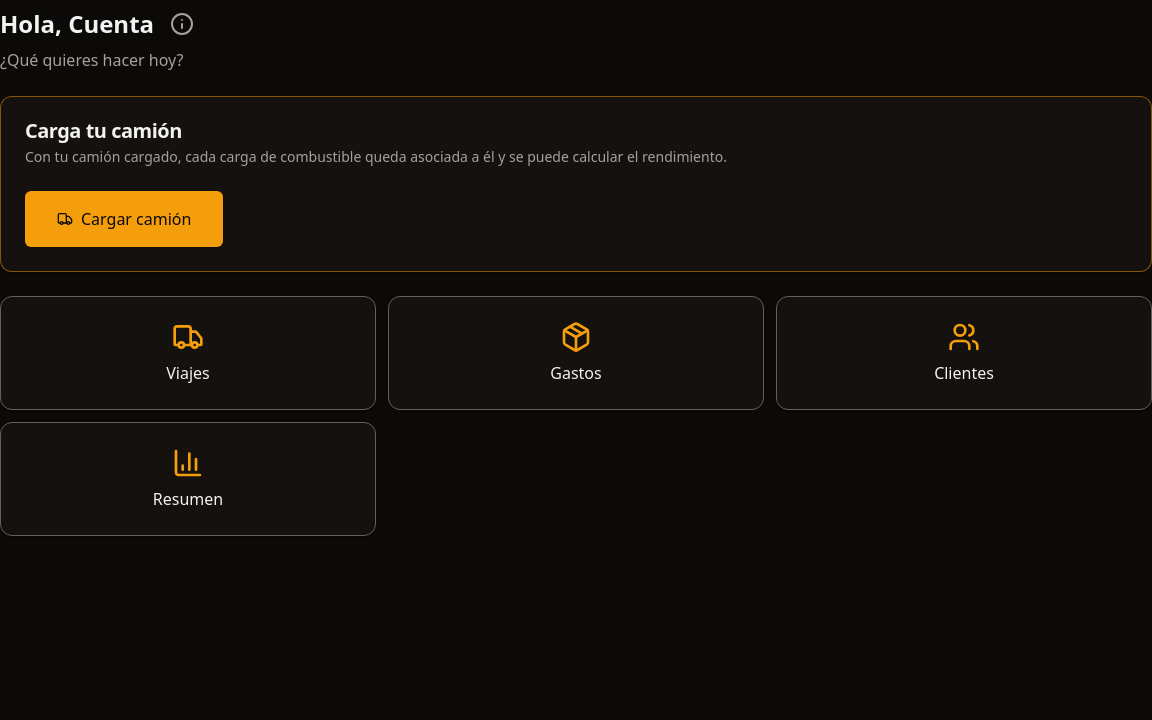
cobertura: toda pantalla de la app (menos Reportar) tiene su "i" › (Inicio): una sola "i", que abre la ayuda de ESA pantalla y devuelve el foco
Click the button named "Ayuda de esta pantalla".
click(182, 24)  # box left=158, top=0, right=206, bottom=48
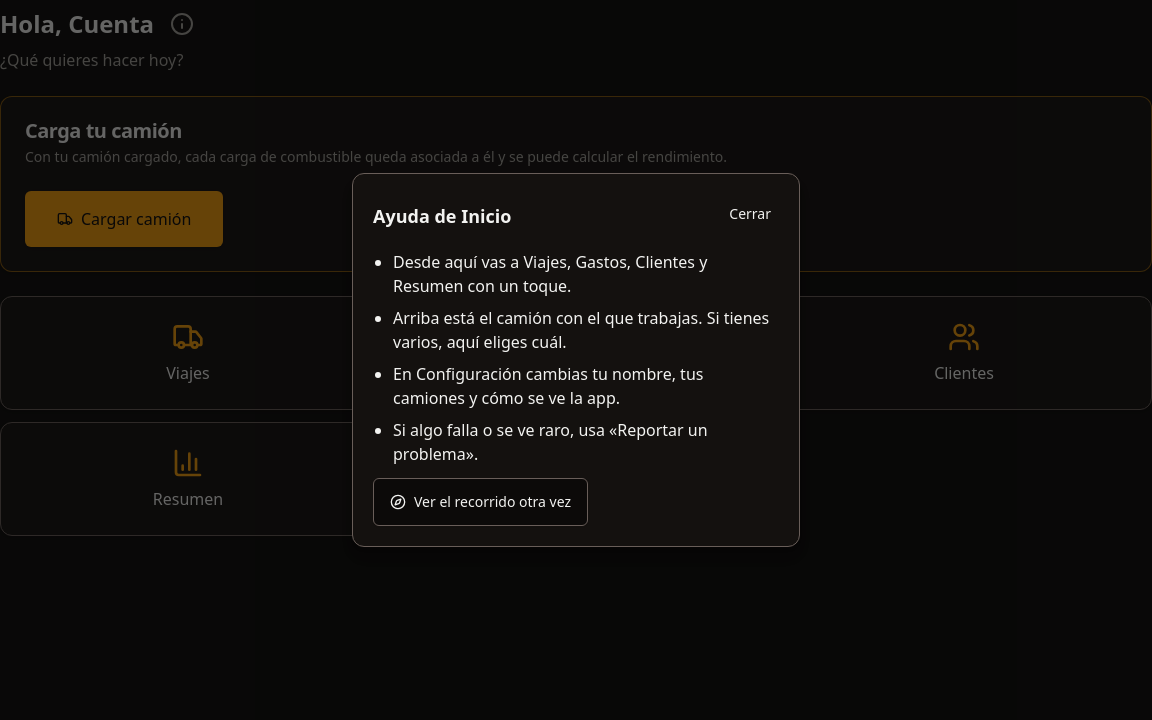
Expected: the heading "Ayuda de Inicio" is shown, left=373, top=202, right=511, bottom=230
Click the button "Cerrar".
click(750, 214)  # box left=713, top=190, right=787, bottom=238
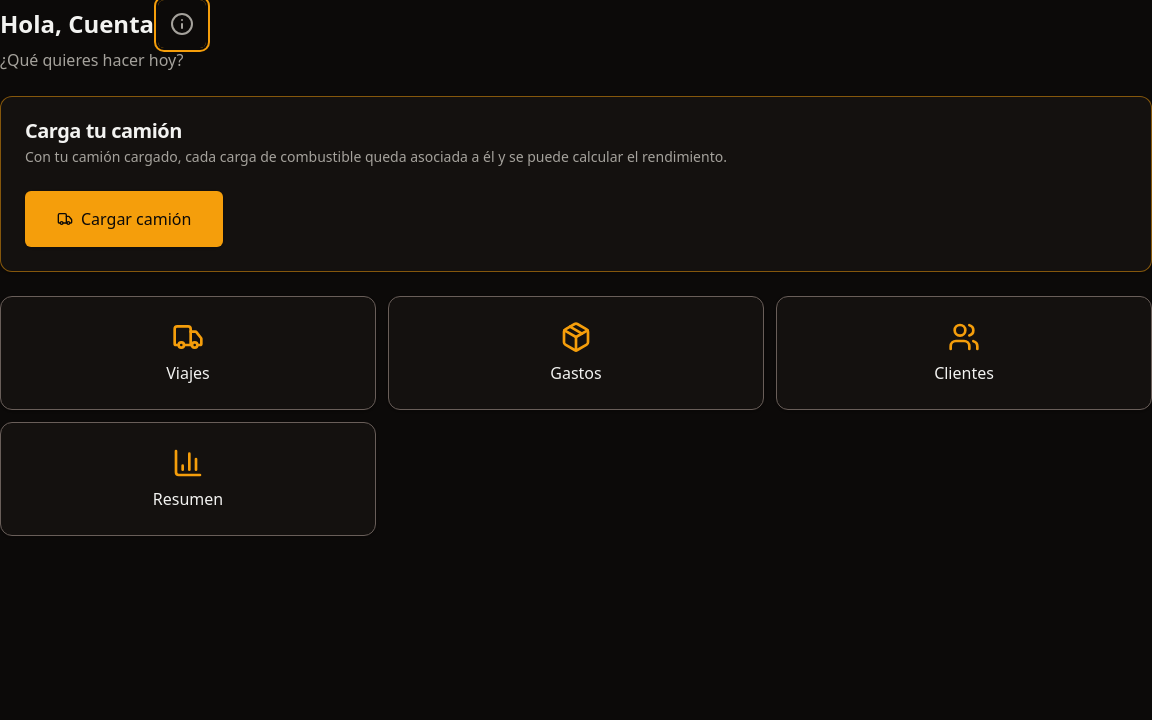
Expected: the dialog is gone
